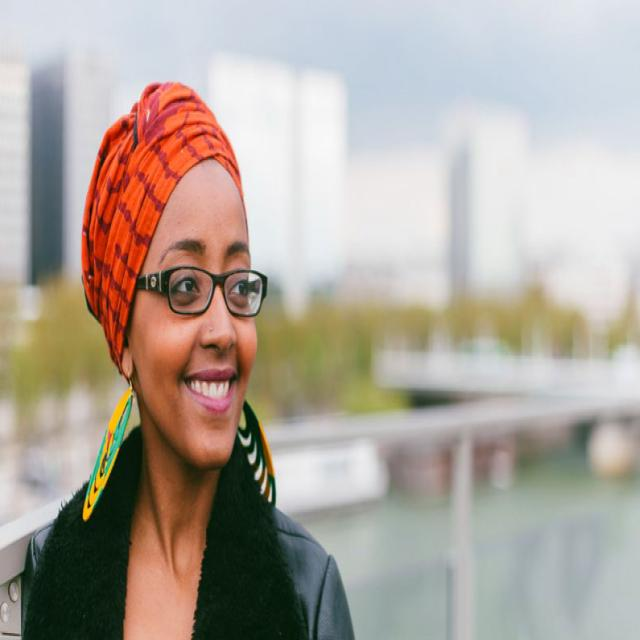adult: (24, 79, 356, 640)
